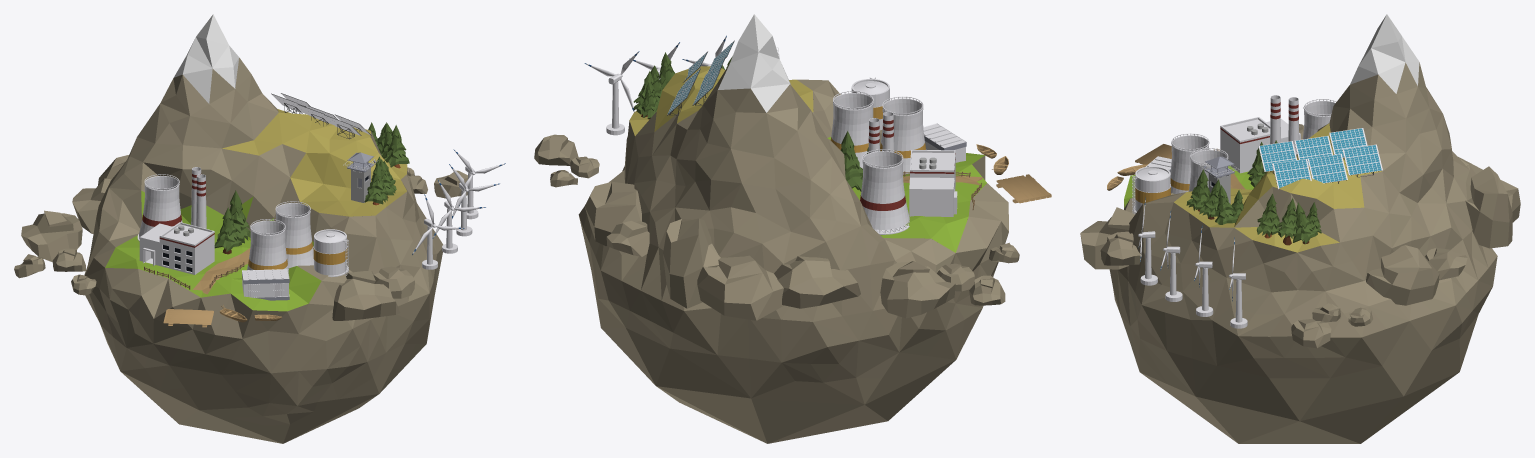
The model's file is surfScene2.glb.
3 renders of one model, left to right at view 1: azimuth 30°, elevation 25°; view 2: azimuth 150°, elevation 25°; view 3: azimuth 270°, elevation 25°, orthographic. The views are drawn at different scales.
Visible parts, largest first — view 1: island.001, Cube, Stone.010, Stone, Cube.002, Cube.009, Cube.010, Cylinder.012, Cube.017, Stone.008, Cube.008, Stone.009 (+14 smaller); view 2: island.001, Stone.007, Stone.005, Cube.002, Stone.008, Cube, Stone, Stone.003, Cube.009, Cube.010, Stone.004, Stone.002 (+9 smaller); view 3: island.001, Stone.003, Stone.005, Cube, Stone.010, Cube.010, Cylinder.012, Stone.009, Cylinder.001, Cube.001, Stone.002, Cube.006 (+19 smaller).
Part boxes in pixels (bbox=[...]): island.001: bbox=[84, 14, 443, 443]; Cube: bbox=[139, 222, 214, 274]; Stone.010: bbox=[332, 270, 400, 320]; Stone: bbox=[21, 210, 82, 261]; Cube.002: bbox=[137, 174, 182, 241]; Cube.009: bbox=[275, 201, 313, 268]; Cube.010: bbox=[247, 219, 288, 271]; Cylinder.012: bbox=[313, 229, 348, 277]; Cube.017: bbox=[242, 269, 289, 300]; Stone.008: bbox=[72, 178, 111, 233]; Cube.008: bbox=[343, 152, 378, 202]; Stone.009: bbox=[373, 266, 414, 298]; island.001: bbox=[578, 14, 1008, 443]; Stone.007: bbox=[697, 255, 783, 320]; Stone.005: bbox=[663, 218, 720, 308]; Cube.002: bbox=[860, 149, 909, 234]; Stone.008: bbox=[774, 256, 860, 308]; Cube: bbox=[909, 150, 957, 216]; Stone: bbox=[880, 261, 955, 318]; Stone.003: bbox=[584, 182, 641, 245]; Cube.009: bbox=[830, 91, 873, 168]; Cube.010: bbox=[880, 96, 926, 174]; Stone.004: bbox=[606, 220, 649, 256]; Stone.002: bbox=[534, 134, 578, 165]; island.001: bbox=[1109, 14, 1497, 443]; Stone.003: bbox=[1366, 245, 1439, 305]; Stone.005: bbox=[1465, 166, 1512, 248]; Cube: bbox=[1220, 117, 1300, 173]; Stone.010: bbox=[1080, 207, 1134, 269]; Cube.010: bbox=[1170, 133, 1209, 193]; Cylinder.012: bbox=[1132, 166, 1170, 214]; Stone.009: bbox=[1100, 231, 1141, 265]; Cylinder.001: bbox=[1270, 95, 1299, 154]; Cube.001: bbox=[1342, 144, 1382, 177]; Stone.002: bbox=[1291, 318, 1331, 348]; Cube.006: bbox=[1307, 154, 1347, 183].
Bounding box in the file's own units: 10.8 × 9.34 × 8.95.
